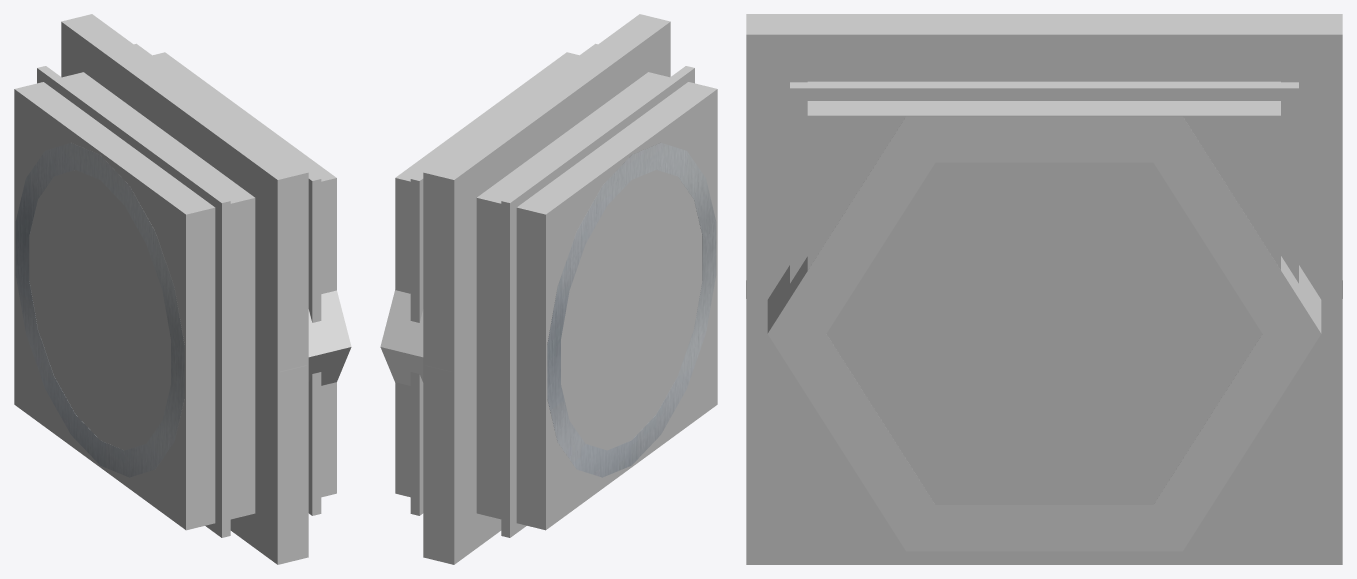
File: rad1_zagl_3s4.FBX
3 renders of one model, left to right at view 1: azimuth 30°, elevation 25°; view 2: azimuth 150°, elevation 25°; view 3: azimuth 270°, elevation 25°, orthographic. The views are drawn at different scales.
Visible parts, largest first — view 1: rad1_zagl_3/4_COL002, rad1_zagl_3/4, size_2_L_est_003, size_2_L_est_006; view 2: rad1_zagl_3/4_COL002, rad1_zagl_3/4, size_2_L_est_003, size_2_L_est_006; view 3: rad1_zagl_3/4_COL002, rad1_zagl_3/4, size_2_L_est_006.
Boxes of the visible parts, box(x1,y1,x2,y2) form: rad1_zagl_3/4_COL002: box(14, 14, 336, 564); rad1_zagl_3/4: box(15, 143, 351, 477); size_2_L_est_003: box(37, 66, 230, 537); size_2_L_est_006: box(134, 43, 321, 515); rad1_zagl_3/4_COL002: box(395, 14, 717, 564); rad1_zagl_3/4: box(380, 143, 716, 477); size_2_L_est_003: box(501, 66, 694, 537); size_2_L_est_006: box(410, 43, 597, 515); rad1_zagl_3/4_COL002: box(746, 14, 1342, 564); rad1_zagl_3/4: box(746, 116, 1342, 551); size_2_L_est_006: box(790, 82, 1298, 549).
Bounding box in the file's own units: 0.017 × 0.0414 × 0.0422.
Materials: 3 (2 with a texture image).
